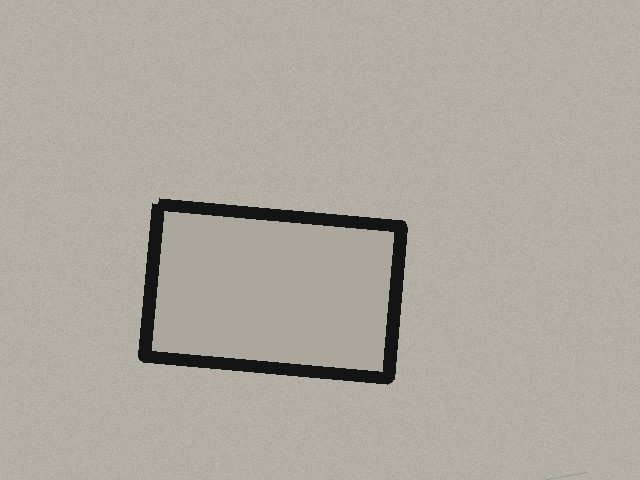parking_area: (144, 204, 401, 378)
